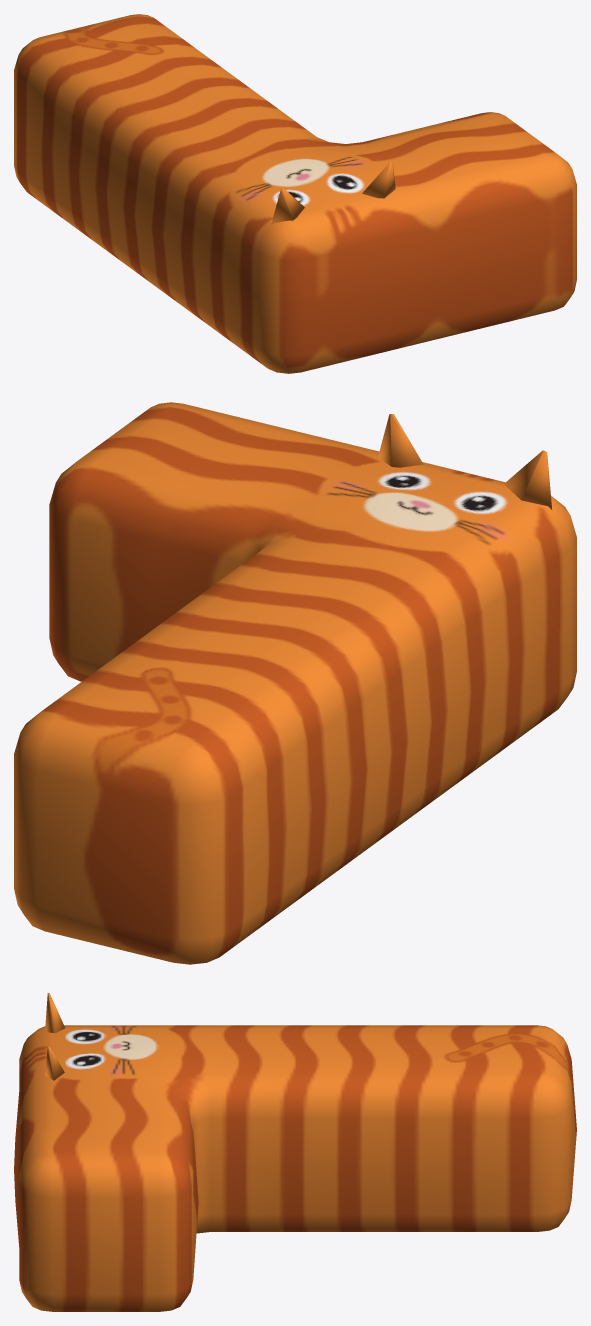
The model's file is Cat_L.fbx.
The picture shows the model from 3 angles, top to bottom: view 1: azimuth 30°, elevation 25°; view 2: azimuth 150°, elevation 25°; view 3: azimuth 270°, elevation 25°; orthographic projection. The views are drawn at different scales.
Parts seen in each view (by area): view 1: Cat_L; view 2: Cat_L; view 3: Cat_L.
Boxes of the visible parts, <box> form: Cat_L: <box>14,14,576,373</box>; Cat_L: <box>14,402,576,964</box>; Cat_L: <box>14,993,576,1311</box>.
Bounding box in the file's own units: 1.98 × 1.05 × 2.98.
Materials: 1 (1 with a texture image).
